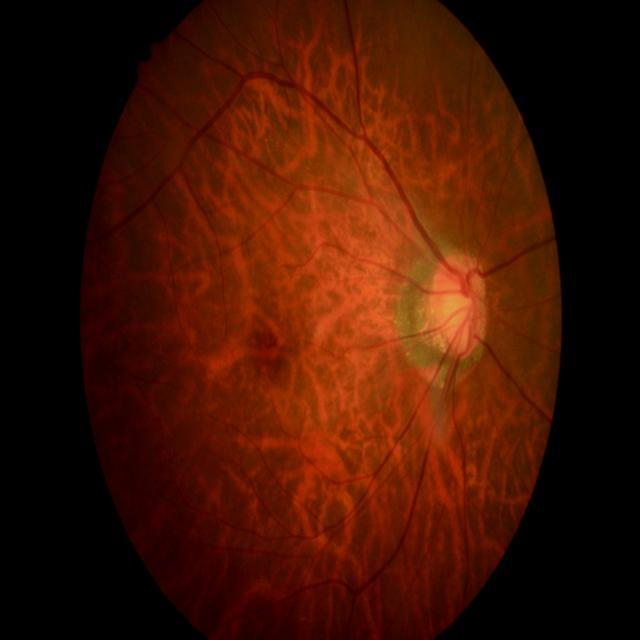cup: (443, 276, 475, 334)
disk: (430, 250, 490, 356)
